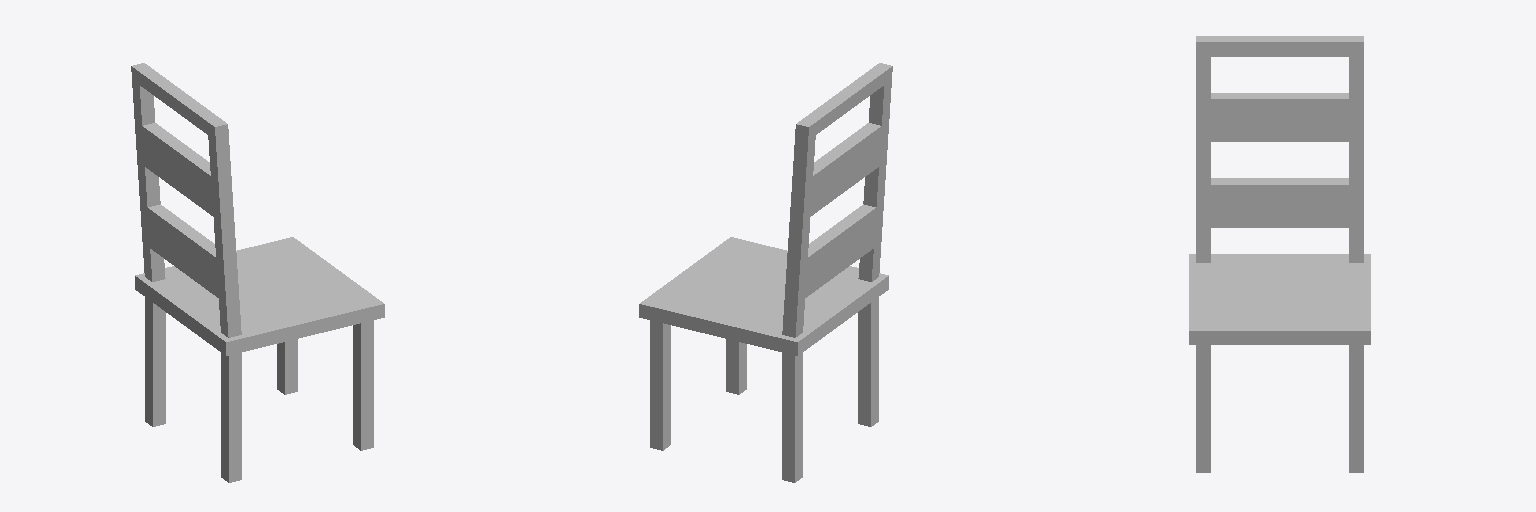
The model's file is Chair.obj.
3 views of the same model, side by side, from view 1: azimuth 30°, elevation 25°; view 2: azimuth 150°, elevation 25°; view 3: azimuth 270°, elevation 25° (orthographic).
Parts seen in each view (by area): view 1: Cube.001_Cube.022, Seat_Base_Cube.017, Leg.018_Cube.019, Leg.012_Cube.018, Leg.019_Cube.020, Leg.020_Cube.021; view 2: Cube.001_Cube.022, Seat_Base_Cube.017, Leg.019_Cube.020, Leg.020_Cube.021, Leg.018_Cube.019, Leg.012_Cube.018; view 3: Cube.001_Cube.022, Seat_Base_Cube.017, Leg.012_Cube.018, Leg.020_Cube.021.
Boxes of the visible parts, <box> form: Cube.001_Cube.022: <box>131,63,241,337</box>; Seat_Base_Cube.017: <box>135,237,384,355</box>; Leg.018_Cube.019: <box>221,353,241,482</box>; Leg.012_Cube.018: <box>353,320,373,450</box>; Leg.019_Cube.020: <box>145,297,165,426</box>; Leg.020_Cube.021: <box>277,339,297,394</box>; Cube.001_Cube.022: <box>782,63,892,337</box>; Seat_Base_Cube.017: <box>639,237,888,355</box>; Leg.019_Cube.020: <box>782,353,802,482</box>; Leg.020_Cube.021: <box>650,320,670,450</box>; Leg.018_Cube.019: <box>858,297,878,426</box>; Leg.012_Cube.018: <box>726,339,746,394</box>; Cube.001_Cube.022: <box>1196,36,1363,262</box>; Seat_Base_Cube.017: <box>1189,254,1370,344</box>; Leg.012_Cube.018: <box>1196,345,1210,472</box>; Leg.020_Cube.021: <box>1349,345,1363,472</box>.
Size of the model in its own units: 2.95 by 6.11 by 2.82.